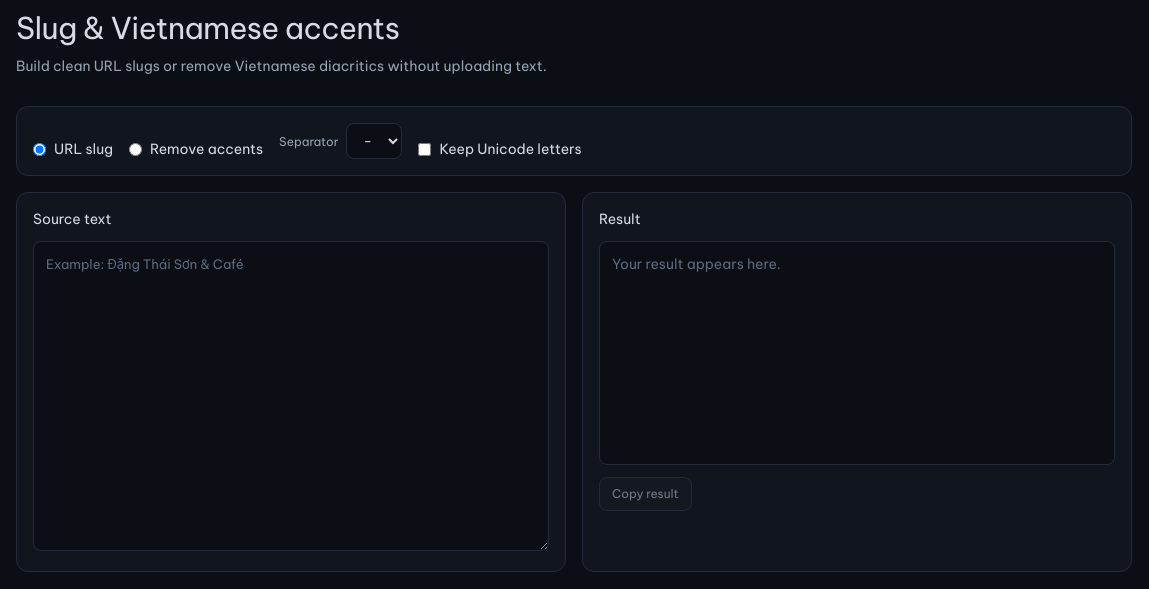
it: Slug & Vietnamese Accents tool › creates an ASCII slug and supports separator options
Type "Đặng Thái Sơn & Café" into the text box named "Source text" at (291, 396), box [33,241,549,551]
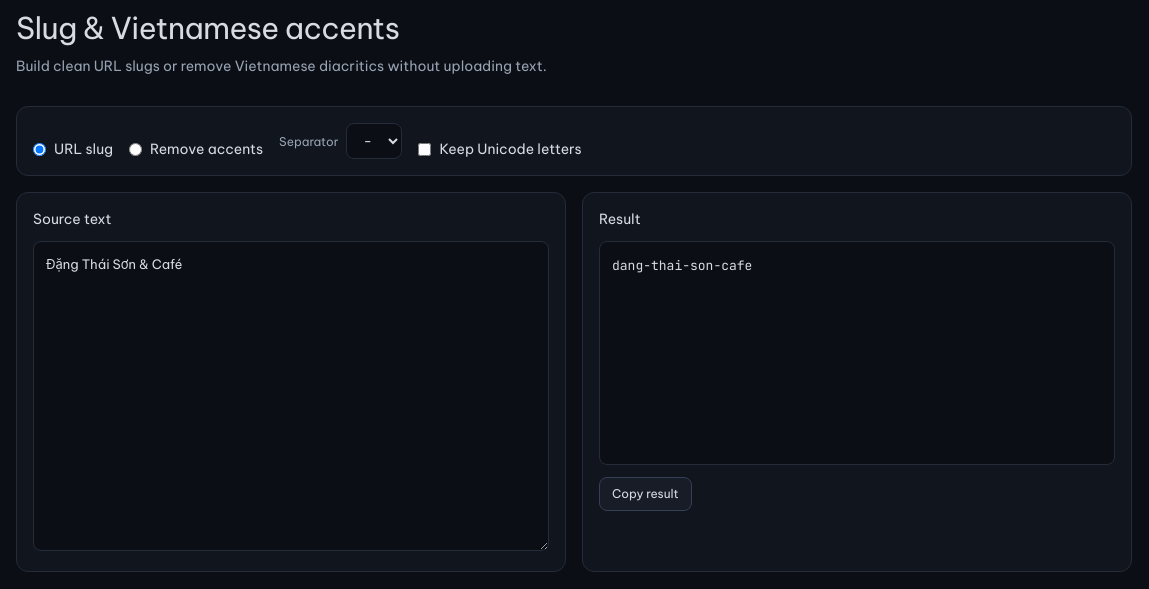
expect the element named "Result" reads "dang-thai-son-cafe": met, box [612,257,752,274]
Select "_" in the dropdown labelled "Separator" at (374, 141), box [346,123,402,159]
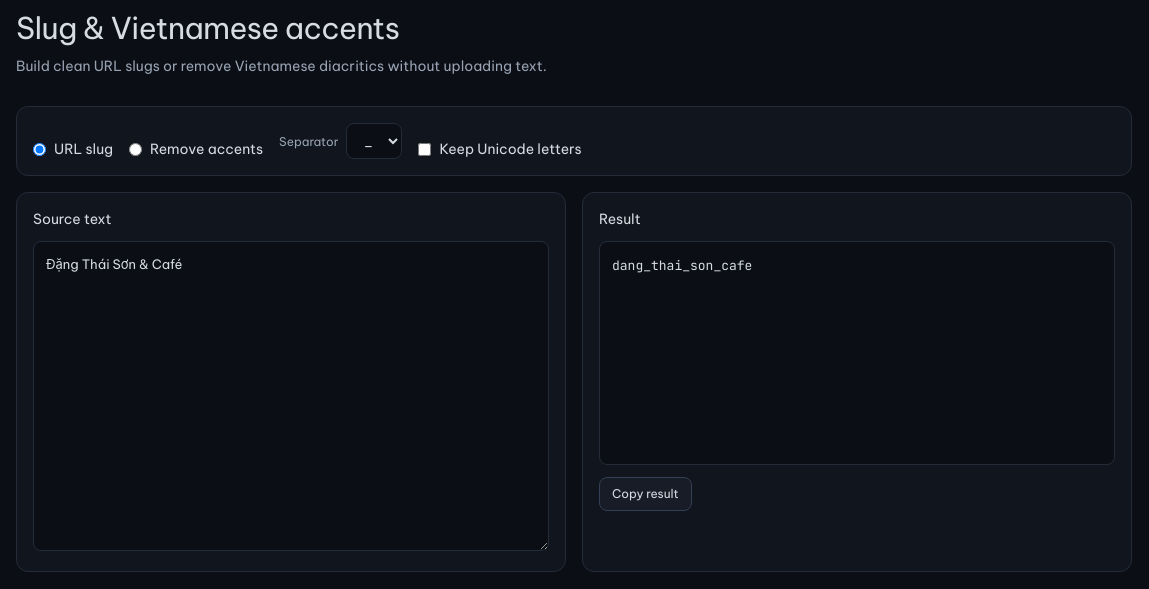
expect the button "Copy result" is enabled: met, box [599,477,692,511]
expect the element named "Result" reads "dang_thai_son_cafe": met, box [612,257,752,274]
